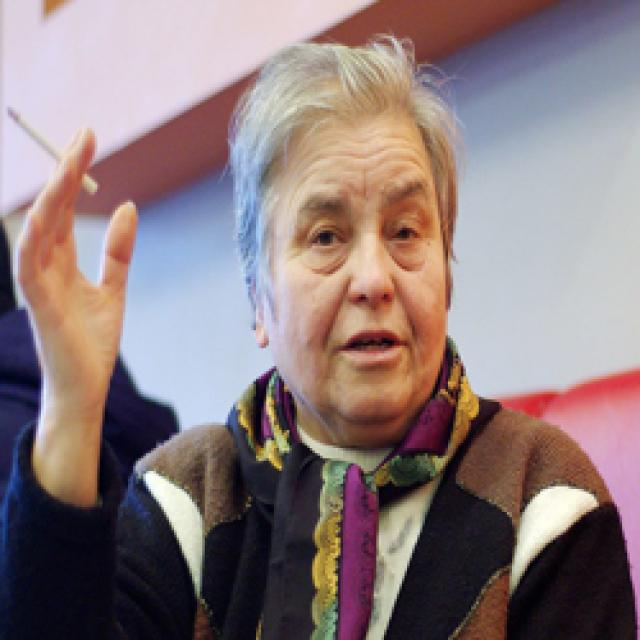Smooking: (3, 96, 107, 202)
